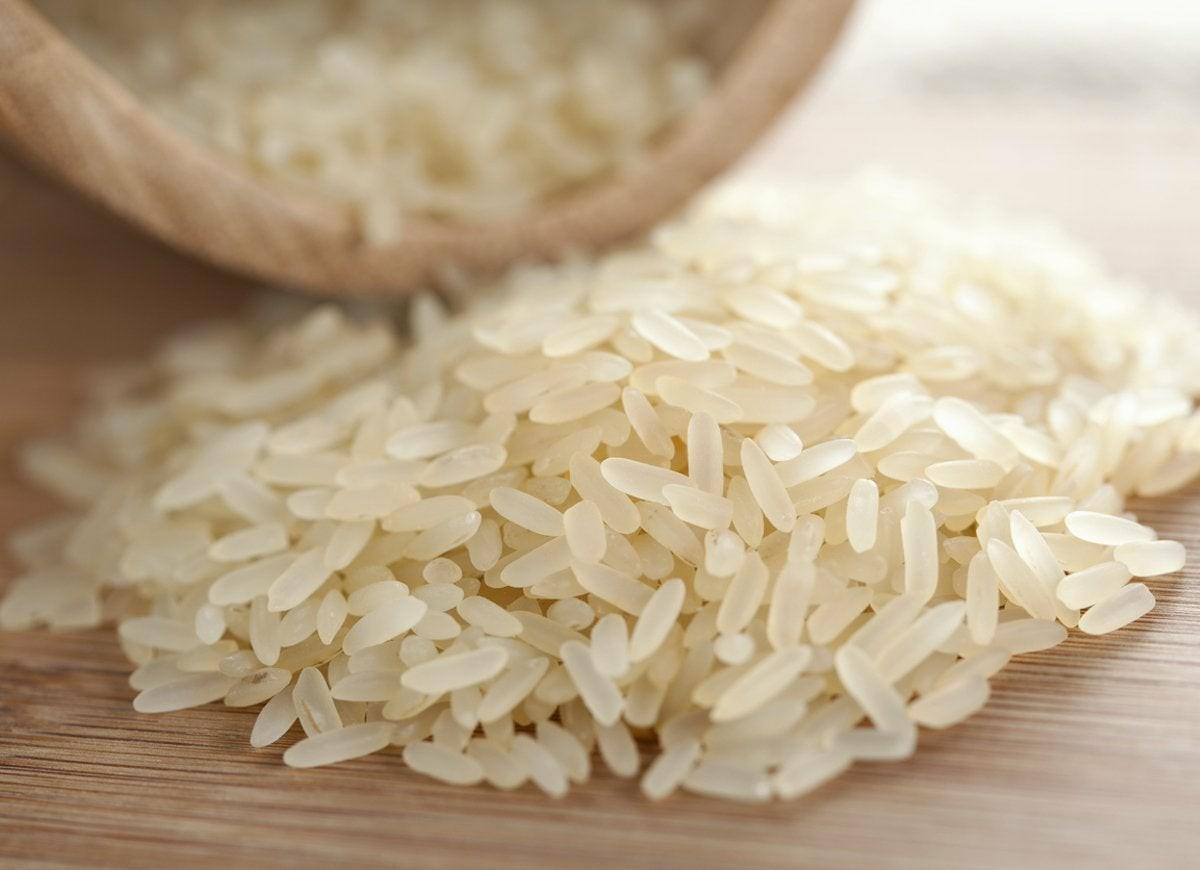WhiteRice: (7, 159, 1200, 808)
